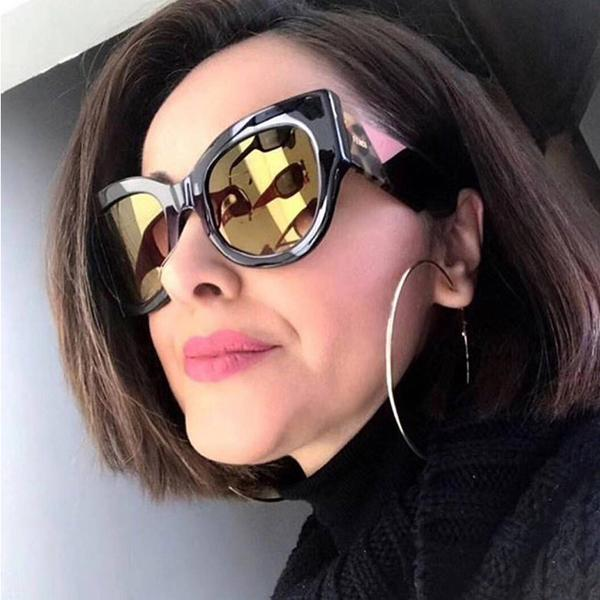sunglasses: (51, 103, 507, 313)
